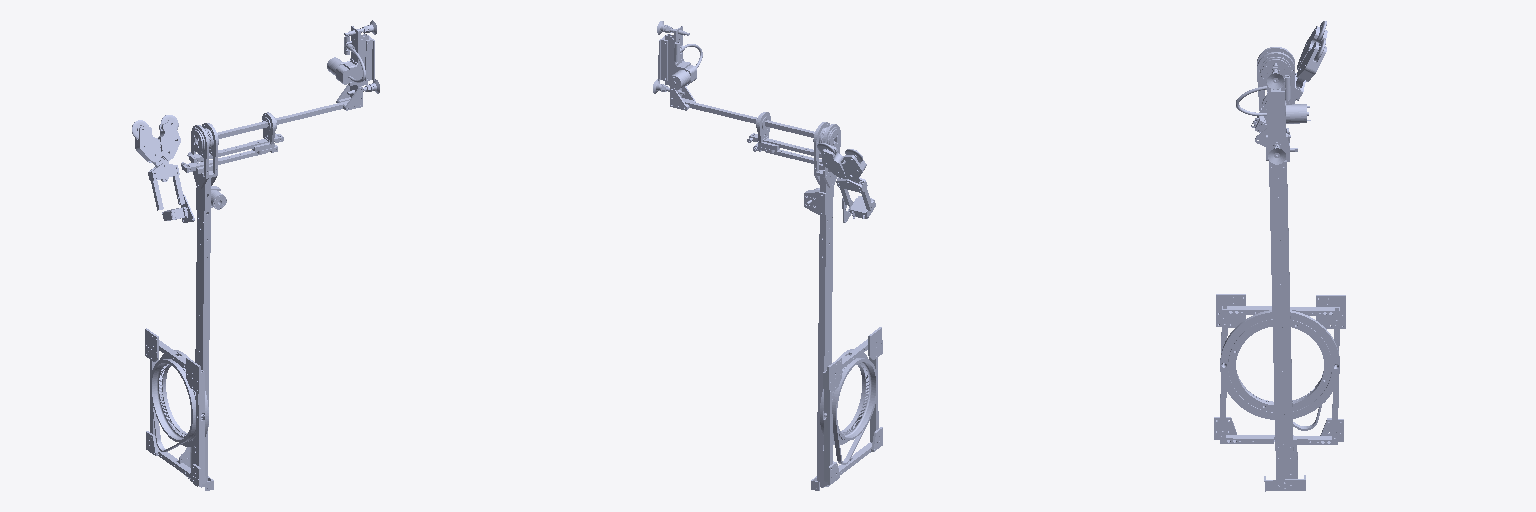
URDF robot description (a_r2):
<?xml version="1.0" ?>
<!-- =================================================================================== -->
<!-- |    This document was autogenerated by xacro from /home/a/ws_nhk/src/a_r2_description-20251207T063721Z-3-001/a_r2_description/urdf/a_r2.xacro | -->
<!-- |    EDITING THIS FILE BY HAND IS NOT RECOMMENDED                                 | -->
<!-- =================================================================================== -->
<robot name="a_r2">
  <material name="silver_default">
    <color rgba="0.700 0.700 0.700 1.000"/>
  </material>
  <material name="opaque202209238">
    <color rgba="0.792156862745098 0.8196078431372549 0.9333333333333333 1.0"/>
  </material>
  <material name="steel_satin">
    <color rgba="0.6274509803921569 0.6274509803921569 0.6274509803921569 1.0"/>
  </material>
  <transmission name="Slider 1_tran">
    <type>transmission_interface/SimpleTransmission</type>
    <joint name="Slider 1">
      <hardwareInterface>hardware_interface/EffortJointInterface</hardwareInterface>
    </joint>
    <actuator name="Slider 1_actr">
      <hardwareInterface>hardware_interface/EffortJointInterface</hardwareInterface>
      <mechanicalReduction>1</mechanicalReduction>
    </actuator>
  </transmission>
  <transmission name="Revolute 3_tran">
    <type>transmission_interface/SimpleTransmission</type>
    <joint name="Revolute 3">
      <hardwareInterface>hardware_interface/EffortJointInterface</hardwareInterface>
    </joint>
    <actuator name="Revolute 3_actr">
      <hardwareInterface>hardware_interface/EffortJointInterface</hardwareInterface>
      <mechanicalReduction>1</mechanicalReduction>
    </actuator>
  </transmission>
  <transmission name="Revolute 2_tran">
    <type>transmission_interface/SimpleTransmission</type>
    <joint name="Revolute 2">
      <hardwareInterface>hardware_interface/EffortJointInterface</hardwareInterface>
    </joint>
    <actuator name="Revolute 2_actr">
      <hardwareInterface>hardware_interface/EffortJointInterface</hardwareInterface>
      <mechanicalReduction>1</mechanicalReduction>
    </actuator>
  </transmission>
  <transmission name="Slider 4_tran">
    <type>transmission_interface/SimpleTransmission</type>
    <joint name="Slider 4">
      <hardwareInterface>hardware_interface/EffortJointInterface</hardwareInterface>
    </joint>
    <actuator name="Slider 4_actr">
      <hardwareInterface>hardware_interface/EffortJointInterface</hardwareInterface>
      <mechanicalReduction>1</mechanicalReduction>
    </actuator>
  </transmission>
  <transmission name="Slider 5_tran">
    <type>transmission_interface/SimpleTransmission</type>
    <joint name="Slider 5">
      <hardwareInterface>hardware_interface/EffortJointInterface</hardwareInterface>
    </joint>
    <actuator name="Slider 5_actr">
      <hardwareInterface>hardware_interface/EffortJointInterface</hardwareInterface>
      <mechanicalReduction>1</mechanicalReduction>
    </actuator>
  </transmission>
  <link name="base_link">
    <inertial>
      <origin rpy="0 0 0" xyz="-0.30323979250376926 -1.7637082522986578 0.20045847985862988"/>
      <mass value="5.960481710804654"/>
      <inertia ixx="0.265693" ixy="-0.000161" ixz="-0.003536" iyy="0.237847" iyz="0.001802" izz="0.034321"/>
    </inertial>
    <visual>
      <origin rpy="0 0 0" xyz="0 0 0"/>
      <geometry>
        <mesh filename="package://a_r2_description/meshes/base_link.stl" scale="0.001 0.001 0.001"/>
      </geometry>
      <material name="opaque202209238"/>
    </visual>
    <collision>
      <origin rpy="0 0 0" xyz="0 0 0"/>
      <geometry>
        <mesh filename="package://a_r2_description/meshes/base_link.stl" scale="0.001 0.001 0.001"/>
      </geometry>
    </collision>
  </link>
  <link name="link1_1">
    <inertial>
      <origin rpy="0 0 0" xyz="0.015073836207670388 0.1031175572774723 -0.06832299038841899"/>
      <mass value="2.393549693306081"/>
      <inertia ixx="0.024938" ixy="1.6e-05" ixz="7e-06" iyy="0.014019" iyz="9.5e-05" izz="0.011307"/>
    </inertial>
    <visual>
      <origin rpy="0 0 0" xyz="0.279969 1.870817 -0.251713"/>
      <geometry>
        <mesh filename="package://a_r2_description/meshes/link1_1.stl" scale="0.001 0.001 0.001"/>
      </geometry>
      <material name="opaque202209238"/>
    </visual>
    <collision>
      <origin rpy="0 0 0" xyz="0.279969 1.870817 -0.251713"/>
      <geometry>
        <mesh filename="package://a_r2_description/meshes/link1_1.stl" scale="0.001 0.001 0.001"/>
      </geometry>
    </collision>
  </link>
  <link name="link3_1">
    <inertial>
      <origin rpy="0 0 0" xyz="-0.030447471737916676 -0.0010766727647568697 0.0799711119549632"/>
      <mass value="1.1261936705374573"/>
      <inertia ixx="0.005205" ixy="-5e-06" ixz="7.1e-05" iyy="0.005707" iyz="-0.000326" izz="0.000701"/>
    </inertial>
    <visual>
      <origin rpy="0 0 0" xyz="0.251469 1.956474 -0.584419"/>
      <geometry>
        <mesh filename="package://a_r2_description/meshes/link3_1.stl" scale="0.001 0.001 0.001"/>
      </geometry>
      <material name="opaque202209238"/>
    </visual>
    <collision>
      <origin rpy="0 0 0" xyz="0.251469 1.956474 -0.584419"/>
      <geometry>
        <mesh filename="package://a_r2_description/meshes/link3_1.stl" scale="0.001 0.001 0.001"/>
      </geometry>
    </collision>
  </link>
  <link name="link2_1">
    <inertial>
      <origin rpy="0 0 0" xyz="0.006692256834195248 -0.03298749186434358 0.0775459739879038"/>
      <mass value="2.9811225398272745"/>
      <inertia ixx="0.103921" ixy="0.000456" ixz="-0.001257" iyy="0.08371" iyz="0.039073" izz="0.021708"/>
    </inertial>
    <visual>
      <origin rpy="0 0 0" xyz="0.251469 1.768255 -0.186709"/>
      <geometry>
        <mesh filename="package://a_r2_description/meshes/link2_1.stl" scale="0.001 0.001 0.001"/>
      </geometry>
      <material name="opaque202209238"/>
    </visual>
    <collision>
      <origin rpy="0 0 0" xyz="0.251469 1.768255 -0.186709"/>
      <geometry>
        <mesh filename="package://a_r2_description/meshes/link2_1.stl" scale="0.001 0.001 0.001"/>
      </geometry>
    </collision>
  </link>
  <link name="link4_1">
    <inertial>
      <origin rpy="0 0 0" xyz="0.04143876289247539 0.047487159169981696 -0.14176347987297389"/>
      <mass value="3.577862597500207"/>
      <inertia ixx="0.282419" ixy="0.008059" ixz="-0.016249" iyy="0.23477" iyz="0.111687" izz="0.063813"/>
    </inertial>
    <visual>
      <origin rpy="0 0 0" xyz="0.230969 1.939128 -0.59294"/>
      <geometry>
        <mesh filename="package://a_r2_description/meshes/link4_1.stl" scale="0.001 0.001 0.001"/>
      </geometry>
      <material name="opaque202209238"/>
    </visual>
    <collision>
      <origin rpy="0 0 0" xyz="0.230969 1.939128 -0.59294"/>
      <geometry>
        <mesh filename="package://a_r2_description/meshes/link4_1.stl" scale="0.001 0.001 0.001"/>
      </geometry>
    </collision>
  </link>
  <link name="link5_1">
    <inertial>
      <origin rpy="0 0 0" xyz="0.3178712284448246 -0.019838436888842903 0.05880366800915604"/>
      <mass value="1.253566521763957"/>
      <inertia ixx="0.002422" ixy="0.000563" ixz="-0.001126" iyy="0.005507" iyz="0.00066" izz="0.004414"/>
    </inertial>
    <visual>
      <origin rpy="0 0 0" xyz="0.188169 2.017632 -0.705343"/>
      <geometry>
        <mesh filename="package://a_r2_description/meshes/link5_1.stl" scale="0.001 0.001 0.001"/>
      </geometry>
      <material name="opaque202209238"/>
    </visual>
    <collision>
      <origin rpy="0 0 0" xyz="0.188169 2.017632 -0.705343"/>
      <geometry>
        <mesh filename="package://a_r2_description/meshes/link5_1.stl" scale="0.001 0.001 0.001"/>
      </geometry>
    </collision>
  </link>
  <joint name="Slider 1" type="prismatic">
    <origin rpy="0 0 0" xyz="-0.279969 -1.870817 0.251713"/>
    <parent link="base_link"/>
    <child link="link1_1"/>
    <axis xyz="-0.0 0.014599 0.999893"/>
    <limit effort="100" lower="0.0" upper="0.22" velocity="100"/>
  </joint>
  <joint name="Revolute 3" type="revolute">
    <origin rpy="0 0 0" xyz="0.0 -0.188219 0.39771"/>
    <parent link="link2_1"/>
    <child link="link3_1"/>
    <axis xyz="1.0 0.0 0.0"/>
    <limit effort="100" lower="0.0" upper="1.570796" velocity="100"/>
  </joint>
  <joint name="Revolute 2" type="continuous">
    <origin rpy="-0.436 0 0" xyz="0.0285 0.102562 -0.065004"/>
    <parent link="link1_1"/>
    <child link="link2_1"/>
    <axis xyz="1.0 0.0 0.0"/>
  </joint>
  <joint name="Slider 4" type="prismatic">
    <origin rpy="0 0 0" xyz="0.0205 -0.170873 0.406231"/>
    <parent link="link2_1"/>
    <child link="link4_1"/>
    <axis xyz="-0.0 -0.440919 0.897547"/>
    <limit effort="100" lower="0.0" upper="0.6" velocity="100"/>
  </joint>
  <joint name="Slider 5" type="prismatic">
    <origin rpy="0 0 0" xyz="0.0428 -0.078504 0.112403"/>
    <parent link="link4_1"/>
    <child link="link5_1"/>
    <axis xyz="1.0 0.0 0.0"/>
    <limit effort="100" lower="-0.1" upper="0.1" velocity="100"/>
  </joint>
</robot>

--- Render facts (derived) ---
Views: 3 orthographic renders of the robot side by side, from view 1: azimuth 30°, elevation 25°; view 2: azimuth 150°, elevation 25°; view 3: azimuth 270°, elevation 25°.
Model a_r2 with 6 links and 5 joints (1 revolute, 1 continuous, 3 prismatic), rooted at base_link, posed all joints at 0.
Visible links, largest first — view 1: link4_1, link1_1, link5_1, link3_1; view 2: link4_1, link1_1, link5_1, link3_1; view 3: link1_1, link4_1, link5_1, link3_1.
Link boxes in pixels (x1,y1,x2,y2): link4_1: [179, 112, 283, 490]; link1_1: [145, 328, 208, 486]; link5_1: [217, 20, 379, 138]; link3_1: [132, 115, 194, 222]; link4_1: [747, 112, 840, 490]; link1_1: [820, 327, 882, 484]; link5_1: [653, 21, 814, 137]; link3_1: [817, 143, 875, 222]; link1_1: [1214, 294, 1345, 444]; link4_1: [1257, 47, 1305, 491]; link5_1: [1236, 63, 1310, 164]; link3_1: [1251, 21, 1327, 146].
Size in the robot's own frame: 0.529 by 0.2209 by 0.948 metres.
4 mesh visuals loaded from 6 distinct referenced files (4 binary STL); not drawn: 2 (reference not matched to a file when rendering).
